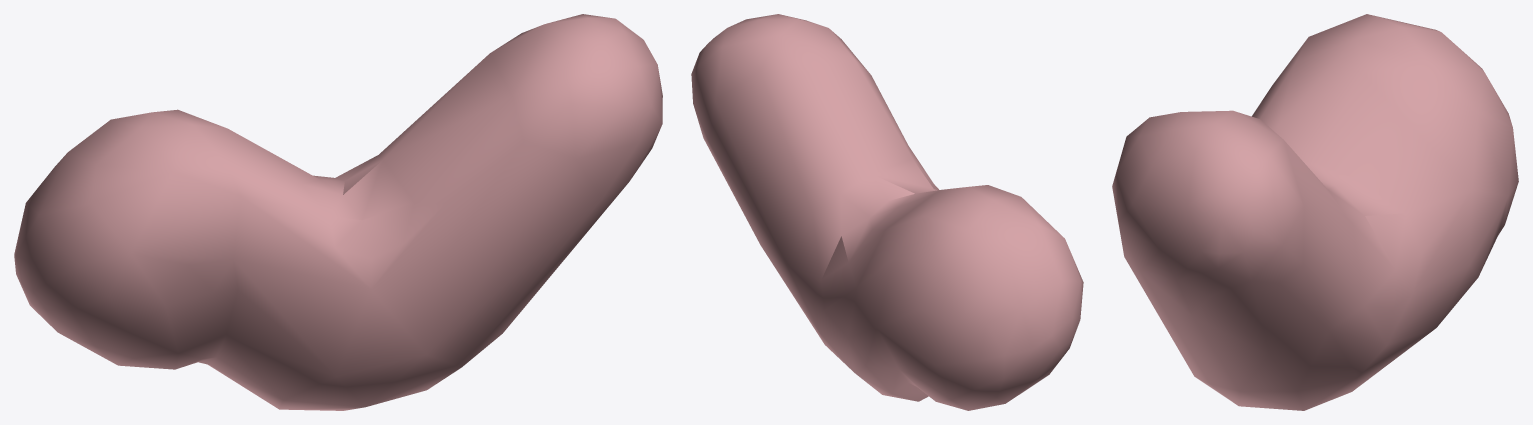
File: fma14966_fj2589.glb
3 views of the same model, side by side, from view 1: azimuth 30°, elevation 25°; view 2: azimuth 150°, elevation 25°; view 3: azimuth 270°, elevation 25° (orthographic). The views are drawn at different scales.
Visible parts, largest first — view 1: FMA14966_FJ2589; view 2: FMA14966_FJ2589; view 3: FMA14966_FJ2589.
Boxes of the visible parts, left/top/right/bottom form: FMA14966_FJ2589: left=14, top=14, right=662, bottom=410; FMA14966_FJ2589: left=691, top=14, right=1083, bottom=410; FMA14966_FJ2589: left=1112, top=14, right=1518, bottom=410.
Size of the model in its own units: 0.0579 by 0.0377 by 0.036.
